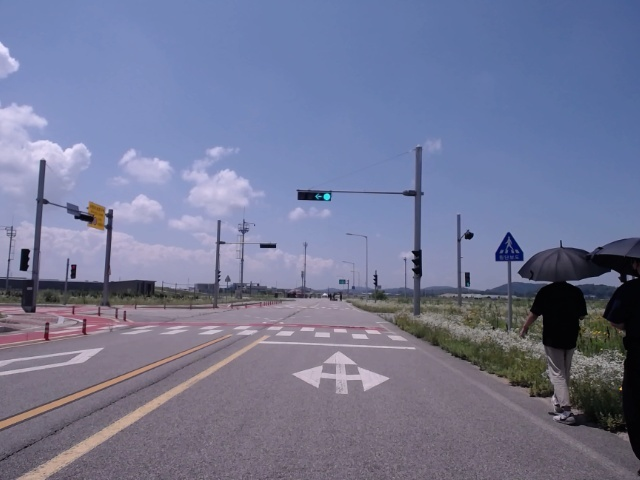all_green_4: (297, 190, 332, 200)
